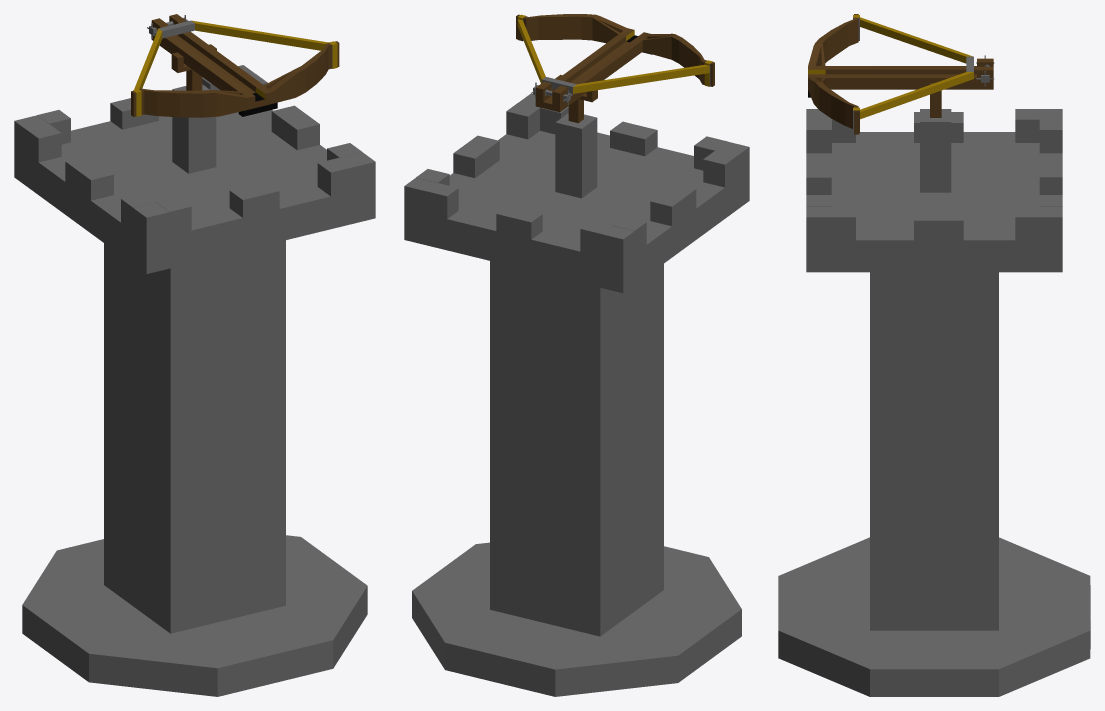
The model's file is Tower11.fbx.
3 views of the same model, side by side, from view 1: azimuth 30°, elevation 25°; view 2: azimuth 150°, elevation 25°; view 3: azimuth 270°, elevation 25° (orthographic). The views are drawn at different scales.
Visible parts, largest first — view 1: Tower11; view 2: Tower11; view 3: Tower11.
Part boxes in pixels (x1,y1,x2,y2): Tower11: [14, 14, 375, 696]; Tower11: [404, 14, 749, 696]; Tower11: [778, 14, 1090, 696].
Bounding box in the file's own units: 3.43 × 6.9 × 3.43.
